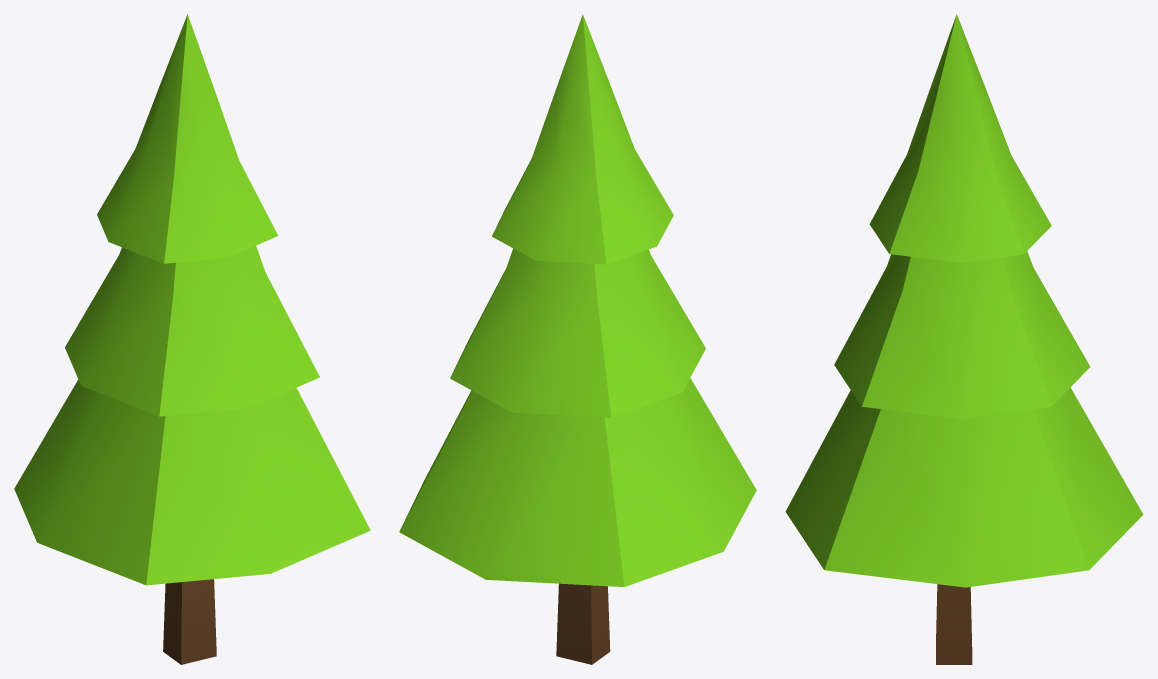
The model's file is Tree 01.FBX.
The picture shows the model from 3 angles, left to right: view 1: azimuth 30°, elevation 25°; view 2: azimuth 150°, elevation 25°; view 3: azimuth 270°, elevation 25°; orthographic projection.
Parts seen in each view (by area): view 1: Box001; view 2: Box001; view 3: Box001.
Boxes of the visible parts, left/top/right/bottom form: Box001: left=14, top=14, right=370, bottom=664; Box001: left=399, top=14, right=756, bottom=664; Box001: left=785, top=14, right=1143, bottom=664.
Bounding box in the file's own units: 6.25 × 12.8 × 6.47.
